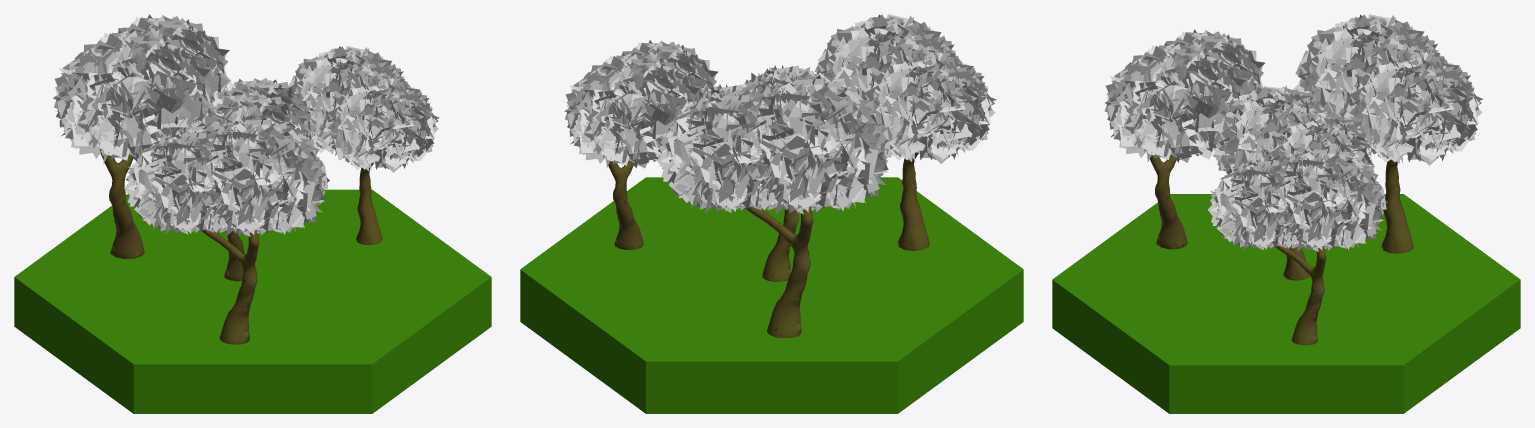
Rendered from Tuile_Foret_N1.fbx.
3 views of the same model, side by side, from view 1: azimuth 30°, elevation 25°; view 2: azimuth 150°, elevation 25°; view 3: azimuth 270°, elevation 25° (orthographic). The views are drawn at different scales.
Visible parts, largest first — view 1: Circle, tree_LP.002, tree_LP, tree_LP.001, tree_LP.003; view 2: Circle, tree_LP, tree_LP.002, tree_LP.001, tree_LP.003; view 3: Circle, tree_LP, tree_LP.001, tree_LP.002, tree_LP.003.
Part boxes in pixels (left/top/right/bottom): Circle: left=14, top=189, right=491, bottom=413; tree_LP.002: left=124, top=117, right=329, bottom=344; tree_LP: left=53, top=14, right=231, bottom=259; tree_LP.001: left=288, top=46, right=439, bottom=245; tree_LP.003: left=187, top=78, right=316, bottom=281; Circle: left=520, top=177, right=1023, bottom=413; tree_LP: left=657, top=75, right=892, bottom=337; tree_LP.002: left=814, top=14, right=996, bottom=250; tree_LP.001: left=564, top=40, right=718, bottom=250; tree_LP.003: left=677, top=65, right=844, bottom=281; Circle: left=1052, top=194, right=1520, bottom=413; tree_LP: left=1292, top=14, right=1483, bottom=253; tree_LP.001: left=1207, top=147, right=1387, bottom=345; tree_LP.002: left=1105, top=29, right=1265, bottom=249; tree_LP.003: left=1213, top=85, right=1375, bottom=280.
Bounding box in the file's own units: 107 × 78.69 × 124.
